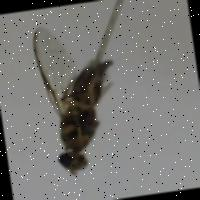Oriental-fruit-fly: (17, 6, 146, 190)
